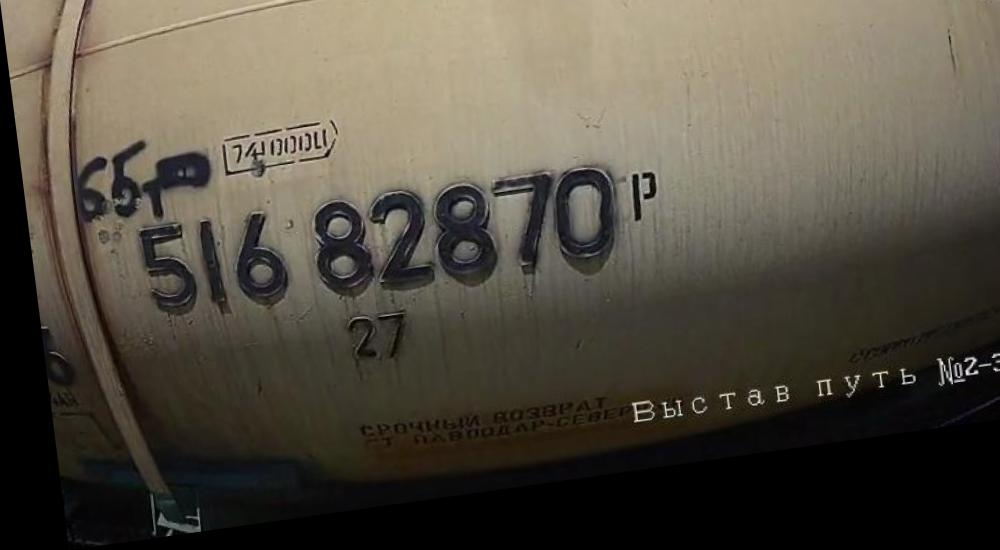Wagon-number: (124, 170, 618, 338)
